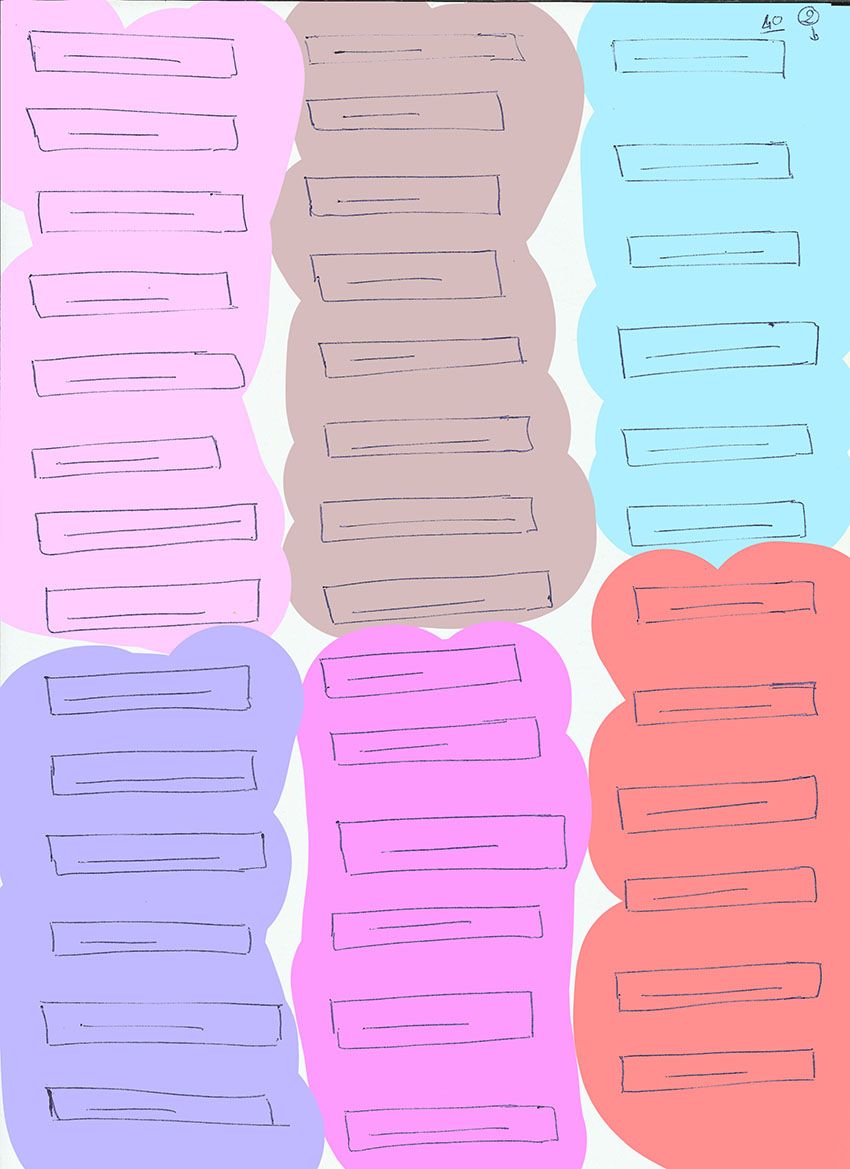edit_text: (332, 812, 571, 879), (35, 994, 287, 1052), (612, 318, 825, 384), (320, 568, 556, 627), (30, 498, 261, 558), (610, 772, 823, 837), (326, 988, 539, 1053), (42, 1081, 292, 1133), (42, 575, 266, 633), (23, 25, 242, 84), (314, 491, 542, 547), (325, 711, 544, 769), (314, 641, 526, 700), (611, 959, 825, 1016), (41, 662, 255, 719), (305, 247, 510, 306), (26, 267, 242, 322), (23, 103, 244, 156), (341, 1102, 561, 1155), (33, 185, 252, 238), (43, 828, 271, 878), (27, 349, 249, 400), (45, 746, 262, 798), (327, 902, 545, 953), (313, 333, 530, 383), (618, 863, 821, 915), (627, 679, 823, 730), (302, 87, 507, 135), (300, 171, 504, 219), (320, 413, 537, 458), (618, 422, 817, 471), (630, 579, 821, 629), (621, 499, 808, 550), (617, 1047, 819, 1094), (608, 137, 796, 186), (27, 434, 223, 481), (46, 916, 255, 959), (298, 28, 526, 67), (620, 228, 806, 273), (607, 36, 792, 80)
